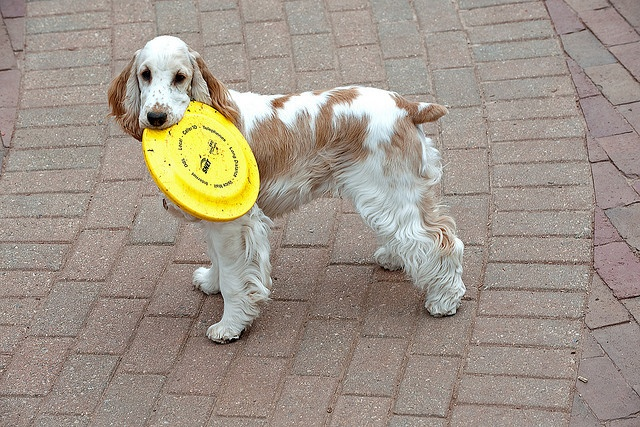dog: (107, 35, 575, 378)
